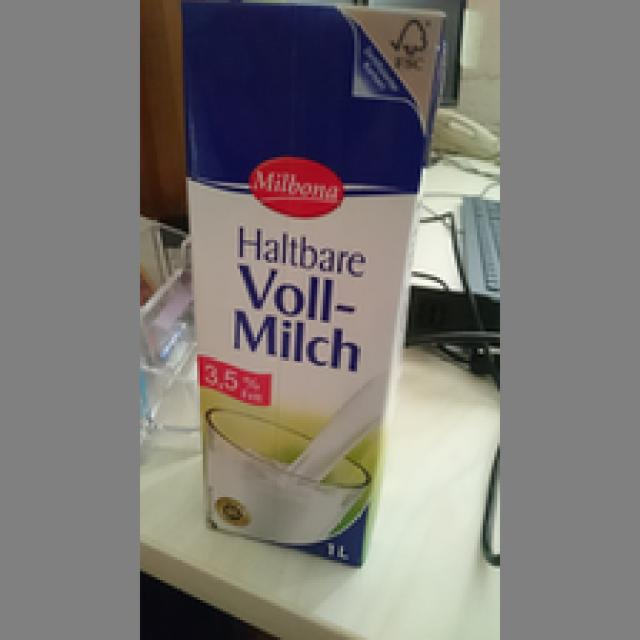groceries: (168, 0, 452, 586)
